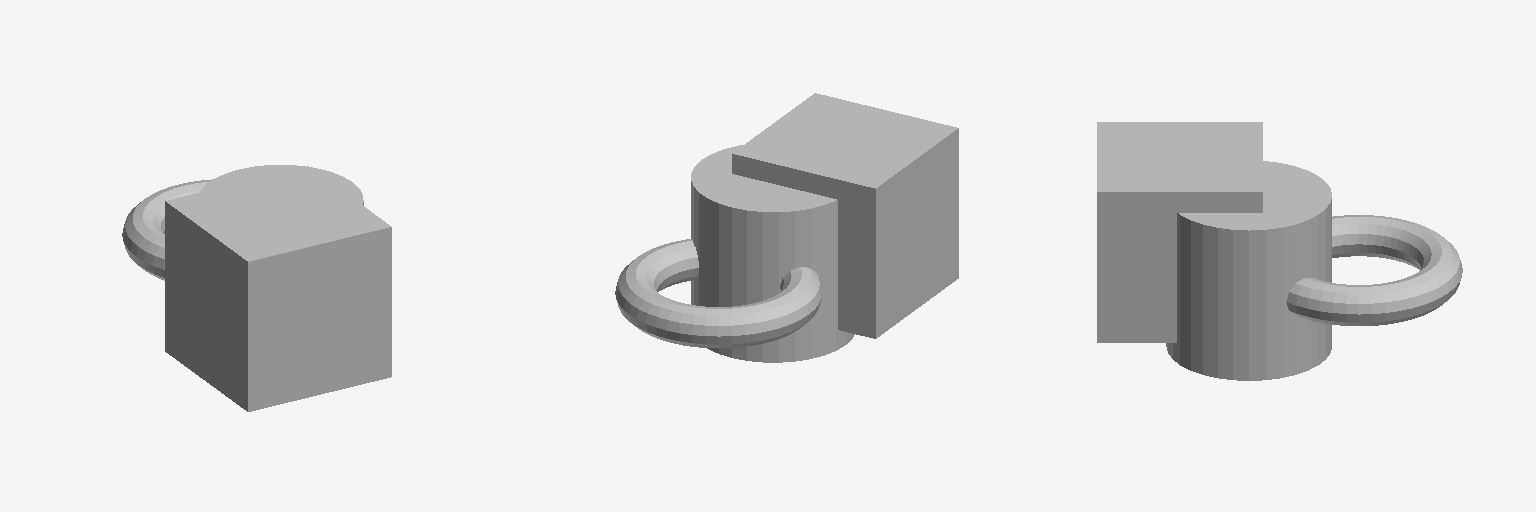
The model's file is CompositeMesh.obj.
The picture shows the model from 3 angles: view 1: azimuth 30°, elevation 25°; view 2: azimuth 150°, elevation 25°; view 3: azimuth 270°, elevation 25°; orthographic projection.
Parts seen in each view (by area): view 1: Cube, Torus, Cylinder; view 2: Cube, Cylinder, Torus; view 3: Cylinder, Cube, Torus.
Boxes of the visible parts, box(x1,y1,x2,y2) form: Cube: box(165, 166, 391, 411); Torus: box(122, 179, 212, 280); Cylinder: box(200, 165, 363, 205); Cube: box(732, 93, 958, 338); Cylinder: box(691, 145, 854, 362); Torus: box(615, 239, 822, 347); Cylinder: box(1166, 161, 1331, 380); Cube: box(1097, 122, 1262, 342); Torus: box(1286, 215, 1462, 325).
Bounding box in the file's own units: 2.76 × 2.27 × 4.41.